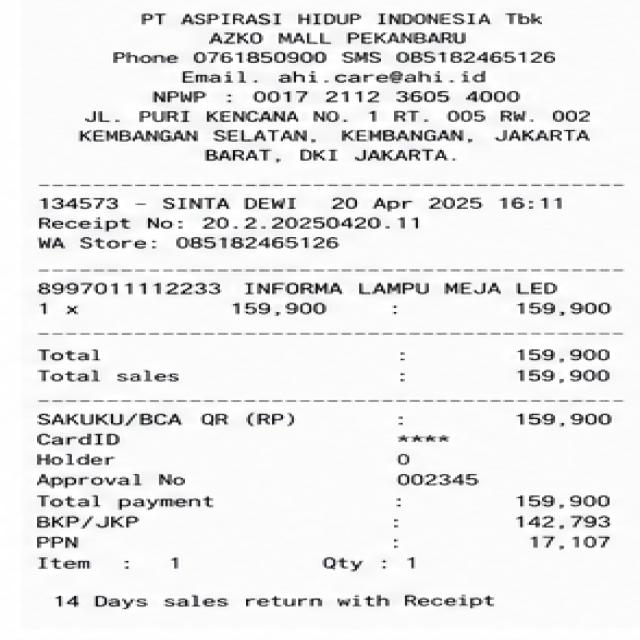date: (322, 194, 572, 213)
store: (135, 9, 561, 46)
total: (26, 491, 618, 511)
